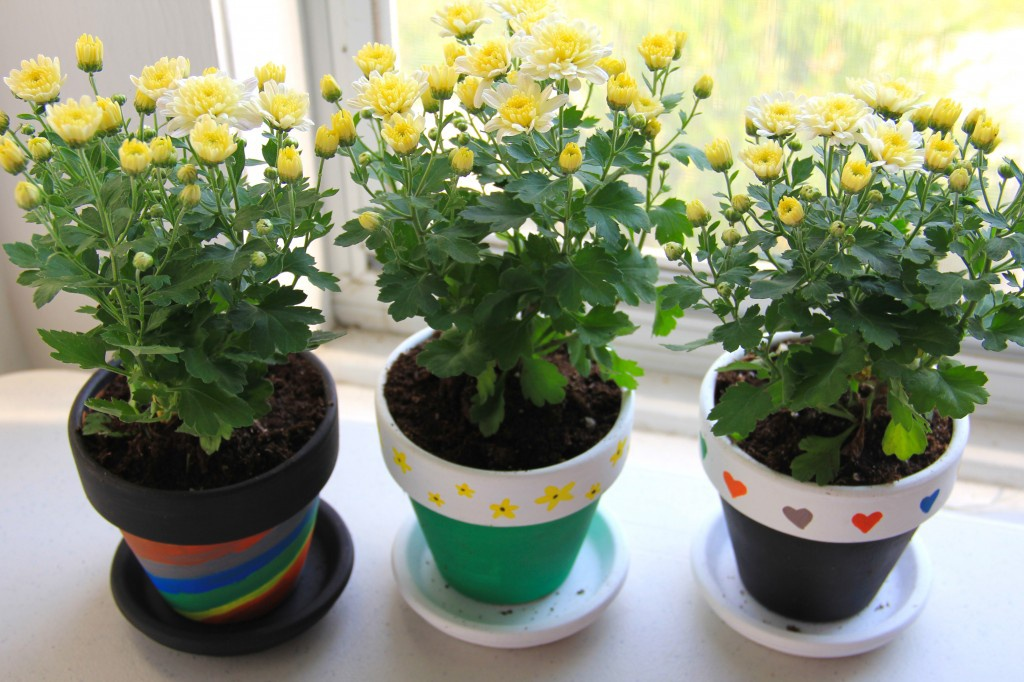flowerpot: (67, 351, 357, 660), (696, 332, 970, 659), (374, 325, 632, 646)
